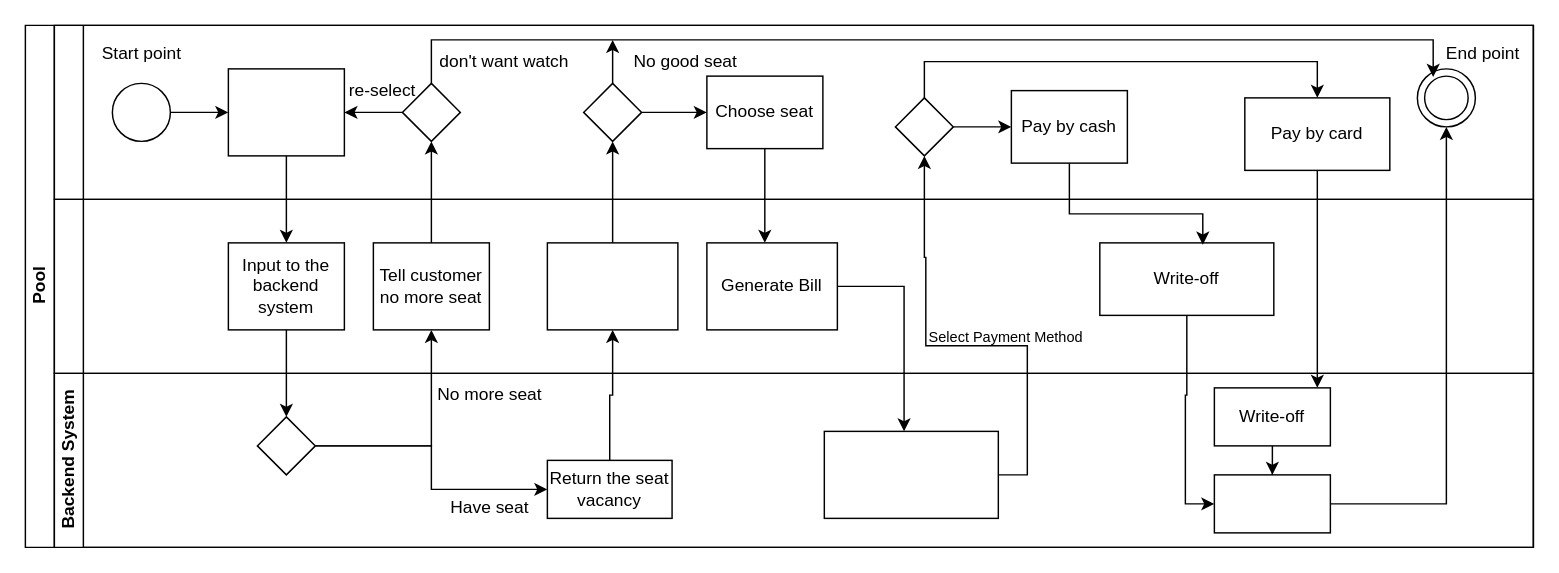
Image size: 1559x573. Some labels were removed from this diagram. The shapes that lost their labels are listed below. From the top down, each one's box as (x1, y1, x2, y2) in pixels, then its label:
(227, 67, 344, 156): Select movie, time
(53, 24, 1533, 199): Customer
(546, 241, 678, 330): Let consumer select seat
(53, 198, 1533, 373): Ticket Seller
(823, 430, 998, 518): Generate bill according to movie info
(1213, 473, 1330, 533): Print Ticket
